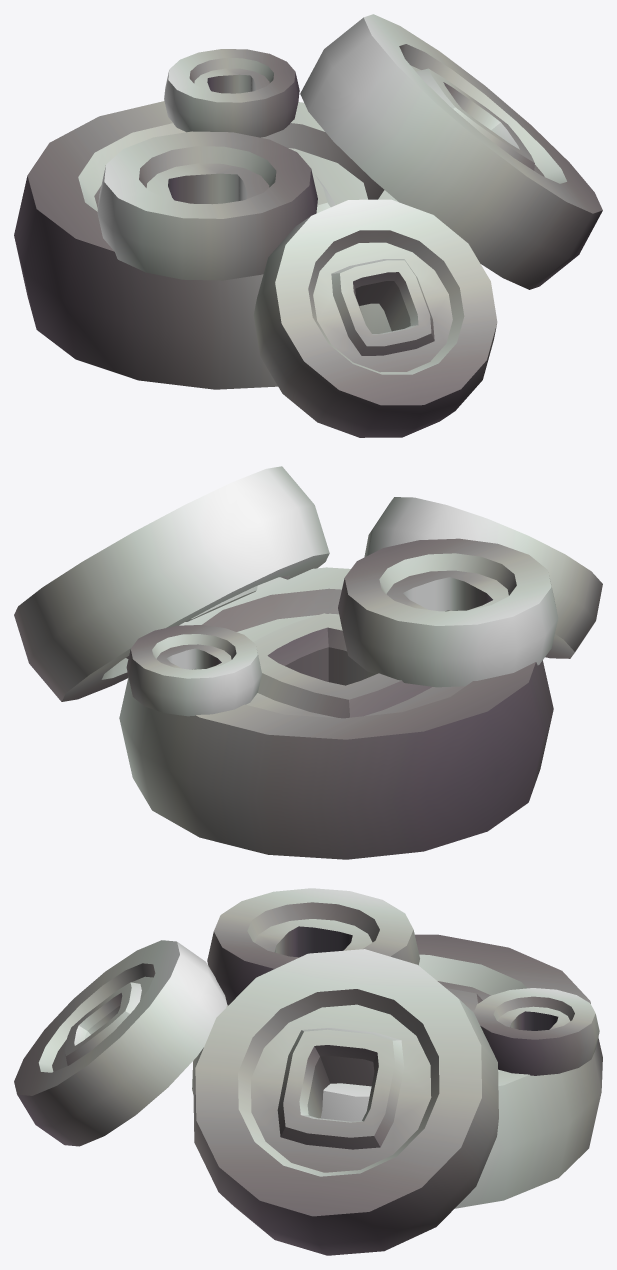
File: Silver_Hole_Coin_05.glb
3 renders of one model, top to bottom at view 1: azimuth 30°, elevation 25°; view 2: azimuth 150°, elevation 25°; view 3: azimuth 270°, elevation 25°, orthographic. The views are drawn at different scales.
Parts seen in each view (by area): view 1: Silver_Hole_Coin_05; view 2: Silver_Hole_Coin_05; view 3: Silver_Hole_Coin_05.
Part boxes in pixels (box(x1,y1,x2,y2)): Silver_Hole_Coin_05: box(14, 14, 602, 437); Silver_Hole_Coin_05: box(14, 466, 602, 859); Silver_Hole_Coin_05: box(14, 888, 602, 1255).
Size of the model in its own units: 0.6522 by 0.3113 by 0.6844.
Materials: 1 (1 with a texture image).
